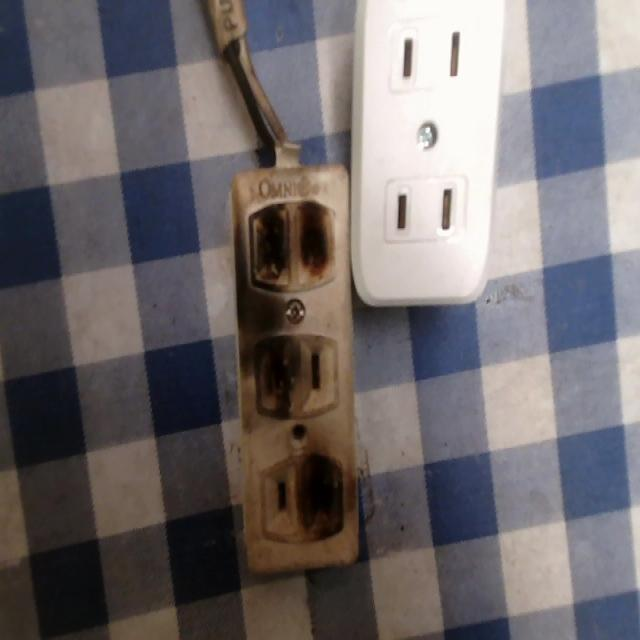-: (246, 195, 339, 300), (298, 444, 349, 540), (248, 337, 304, 419)
